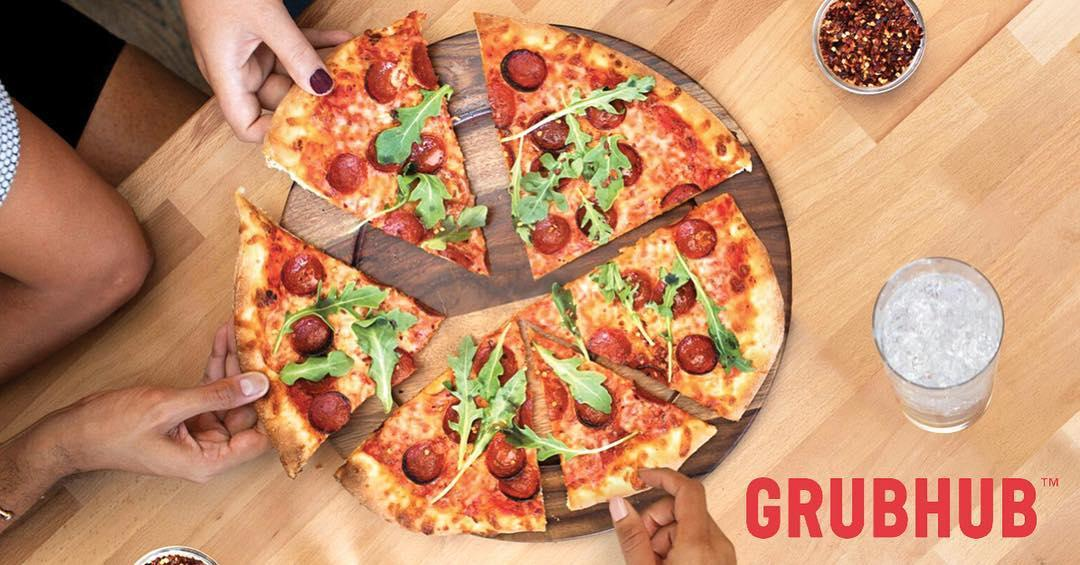Arugula: (504, 135, 629, 238), (393, 169, 493, 259), (265, 279, 393, 349), (700, 285, 752, 370), (355, 285, 389, 404), (381, 90, 444, 153), (274, 347, 359, 393), (571, 135, 616, 196), (484, 373, 524, 432), (454, 339, 473, 458), (573, 77, 647, 107), (562, 363, 608, 409), (528, 433, 598, 458), (482, 325, 505, 394), (595, 266, 629, 308), (555, 288, 580, 341)
Pepperoni: (501, 49, 547, 91), (486, 435, 527, 479), (575, 384, 614, 428), (289, 316, 333, 354), (404, 442, 444, 483), (677, 334, 718, 374), (309, 393, 351, 432), (530, 111, 571, 150), (282, 255, 323, 294), (676, 219, 717, 257), (499, 464, 541, 501), (532, 214, 570, 253), (576, 199, 616, 236), (477, 346, 516, 383), (364, 62, 399, 103), (443, 403, 478, 444), (589, 328, 630, 363), (411, 42, 440, 90), (328, 154, 365, 191), (368, 131, 402, 171), (384, 212, 424, 246), (586, 96, 627, 129), (409, 136, 446, 171), (658, 278, 695, 312), (532, 156, 569, 189), (660, 182, 703, 210), (615, 143, 642, 185), (390, 347, 416, 387), (618, 273, 647, 308), (543, 377, 566, 421), (638, 363, 670, 388), (519, 394, 532, 434)
Pizza: (236, 20, 784, 527)
